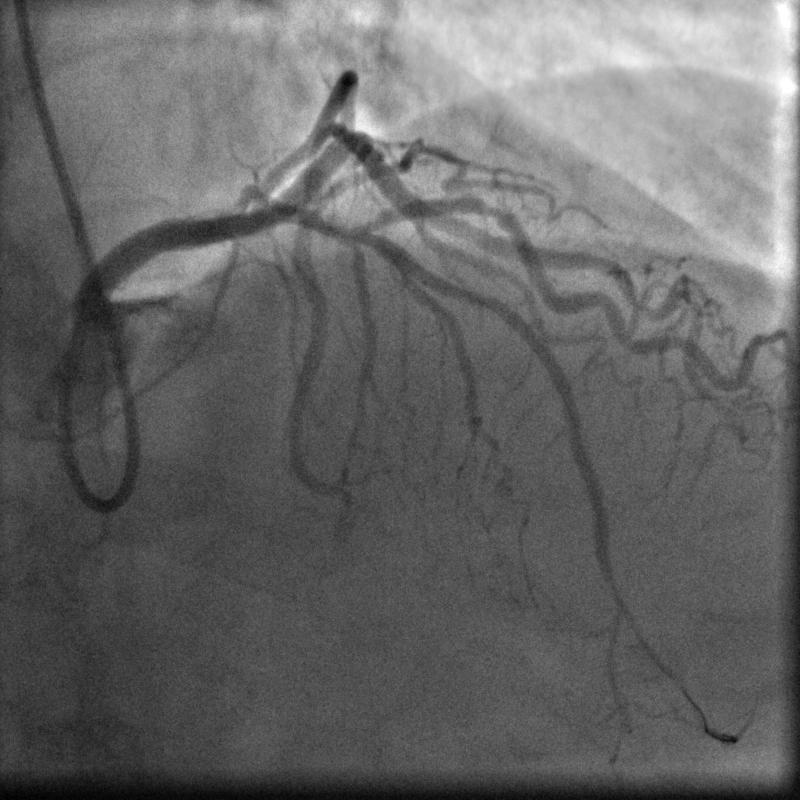Stenosis: (472, 190, 516, 226)
